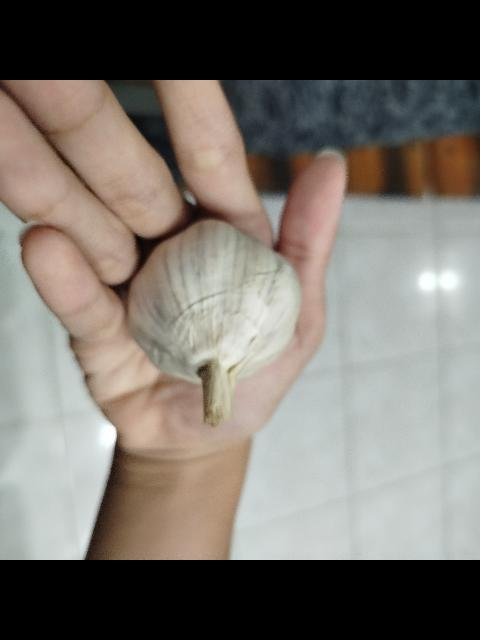garlic: (124, 218, 302, 428)
